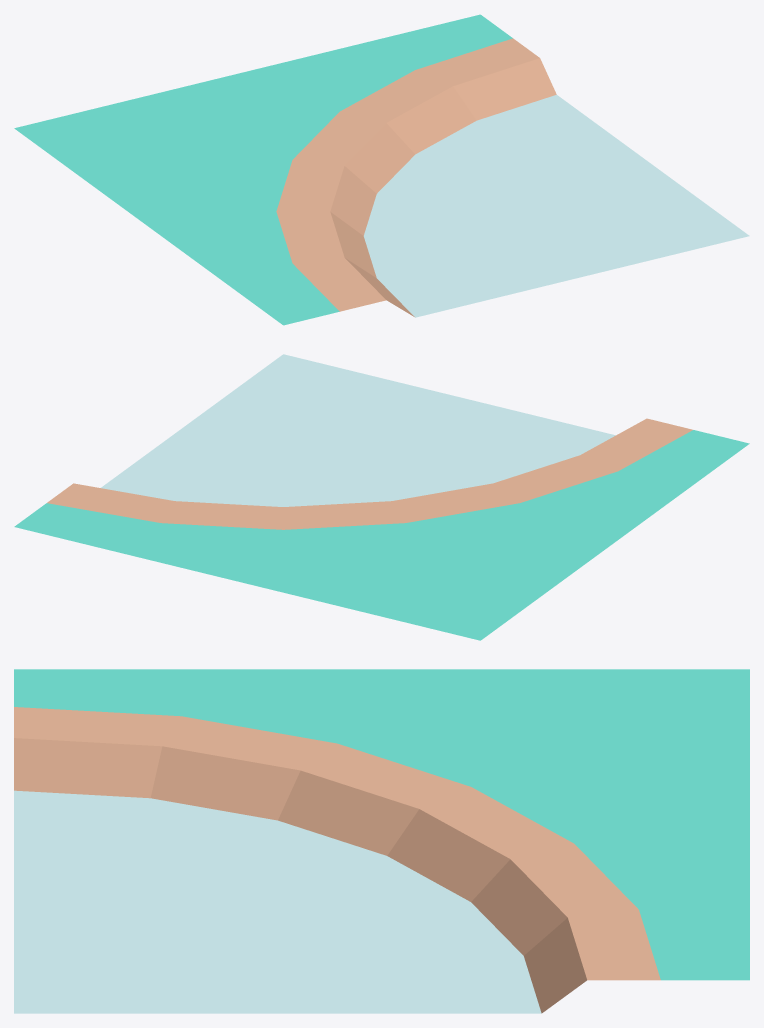
Rendered from ground_rivercorner.glb.
The picture shows the model from 3 angles, top to bottom: view 1: azimuth 30°, elevation 25°; view 2: azimuth 150°, elevation 25°; view 3: azimuth 270°, elevation 25°; orthographic projection. The views are drawn at different scales.
Visible parts, largest first — view 1: ground_riverCorner; view 2: ground_riverCorner; view 3: ground_riverCorner.
Boxes of the visible parts, <box> form: ground_riverCorner: <box>14,14,749,325</box>; ground_riverCorner: <box>14,354,749,640</box>; ground_riverCorner: <box>14,669,749,1013</box>.
Bounding box in the file's own units: 1 × 0.05 × 1.
